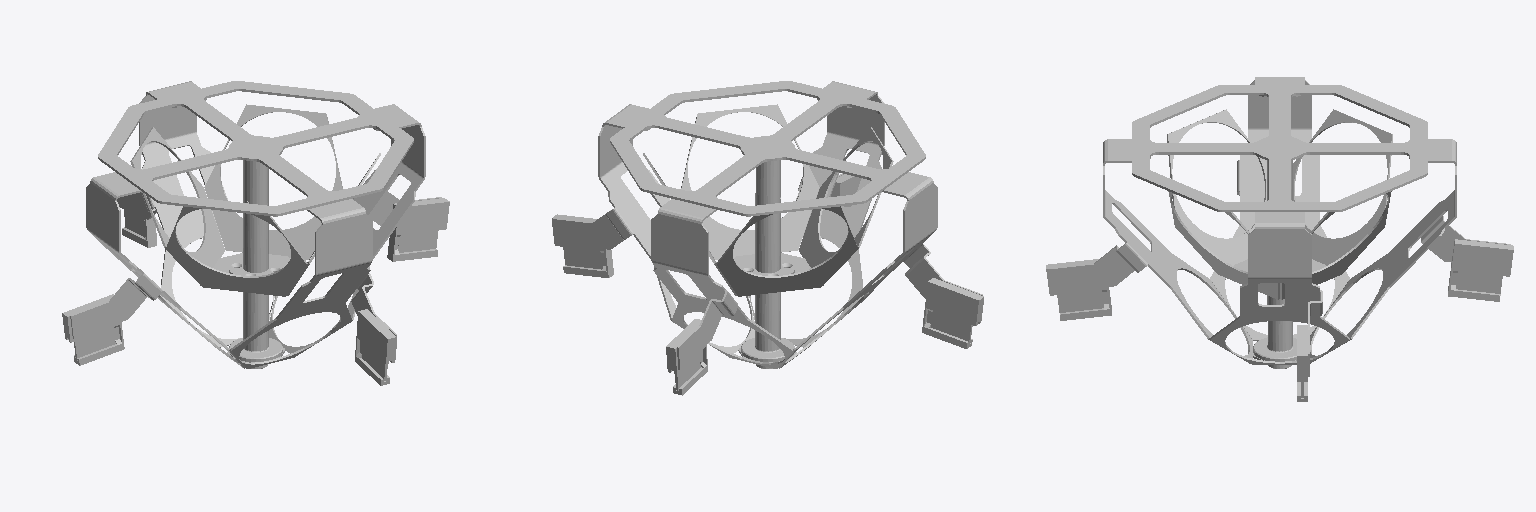
File: Internals_NoBoards.obj
3 renders of one model, left to right at view 1: azimuth 30°, elevation 25°; view 2: azimuth 150°, elevation 25°; view 3: azimuth 270°, elevation 25°, orthographic.
Visible parts, largest first — view 1: Volumenkörper1:1, Volumenkörper1:3, Volumenkörper1:2, Volumenkörper1:12, Volumenkörper1:11, Volumenkörper1:7, Volumenkörper1:5, Volumenkörper1:4, Volumenkörper1:10, Volumenkörper1:9; view 2: Volumenkörper1:1, Volumenkörper1:3, Volumenkörper1:2, Volumenkörper1:12, Volumenkörper1:5, Volumenkörper1:9, Volumenkörper1:11, Volumenkörper1:4, Volumenkörper1:10; view 3: Volumenkörper1:1, Volumenkörper1:3, Volumenkörper1:2, Volumenkörper1:9, Volumenkörper1:12, Volumenkörper1:7, Volumenkörper1:8, Volumenkörper1:6, Volumenkörper1:11.
Part boxes in pixels (x1,y1,x2,y2): Volumenkörper1:1: (70,81,441,368); Volumenkörper1:3: (98,81,413,216); Volumenkörper1:2: (130,104,380,296); Volumenkörper1:12: (229,160,282,368); Volumenkörper1:11: (387,198,449,261); Volumenkörper1:7: (355,309,396,385); Volumenkörper1:5: (62,294,124,365); Volumenkörper1:4: (74,327,115,360); Volumenkörper1:10: (398,230,438,252); Volumenkörper1:9: (119,205,156,247); Volumenkörper1:1: (553,81,982,369); Volumenkörper1:3: (610,81,925,216); Volumenkörper1:2: (643,104,893,296); Volumenkörper1:12: (741,160,794,368); Volumenkörper1:5: (922,278,983,348); Volumenkörper1:9: (666,319,707,395); Volumenkörper1:11: (552,214,613,277); Volumenkörper1:4: (931,311,972,343); Volumenkörper1:10: (563,247,602,269); Volumenkörper1:1: (1049,77,1510,376); Volumenkörper1:3: (1132,85,1427,211); Volumenkörper1:2: (1167,109,1392,299); Volumenkörper1:9: (1448,239,1513,301); Volumenkörper1:12: (1253,160,1296,368); Volumenkörper1:7: (1046,259,1111,320); Volumenkörper1:8: (1456,271,1502,293); Volumenkörper1:6: (1057,290,1103,312); Volumenkörper1:11: (1297,325,1307,401).
Bounding box in the file's own units: 259 × 133 × 259.